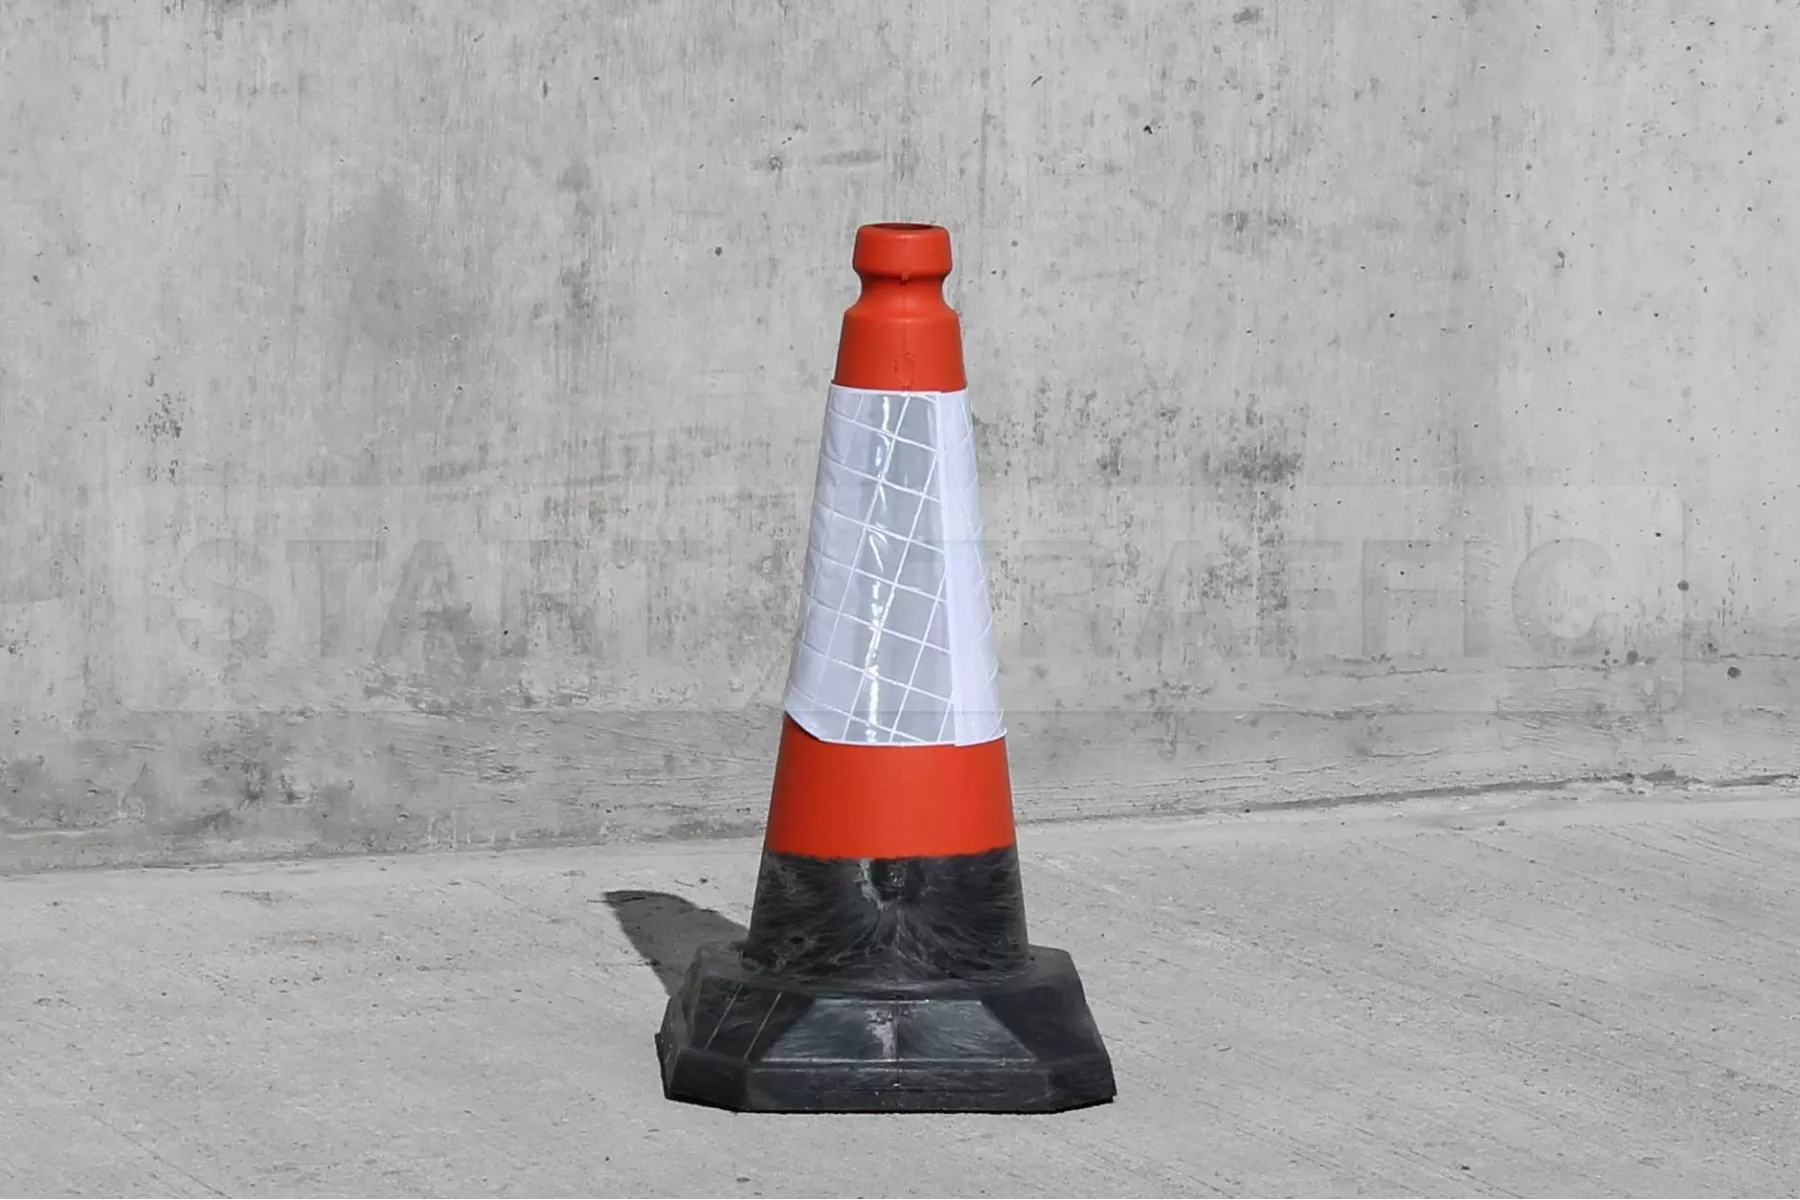cone: (658, 216, 1121, 1120)
